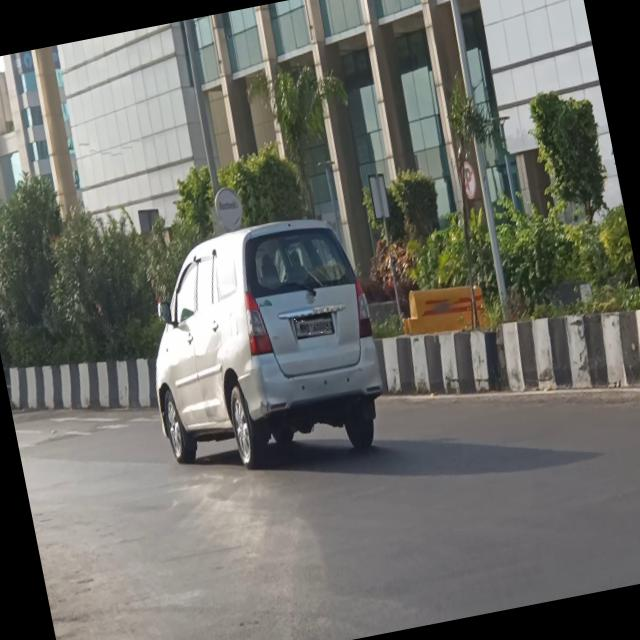Plate: (296, 313, 336, 341)
